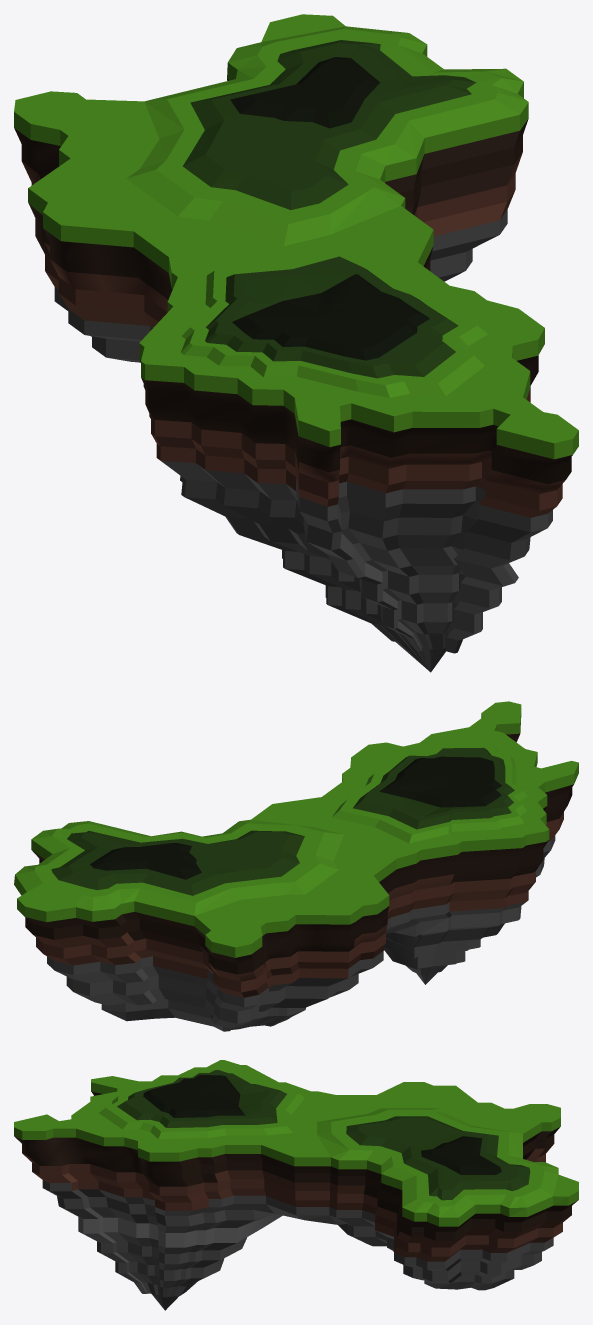
Rendered from F_Island.FBX.
The picture shows the model from 3 angles, top to bottom: view 1: azimuth 30°, elevation 25°; view 2: azimuth 150°, elevation 25°; view 3: azimuth 270°, elevation 25°; orthographic projection. The views are drawn at different scales.
Parts seen in each view (by area): view 1: Cylinder002; view 2: Cylinder002; view 3: Cylinder002.
Part boxes in pixels (<box>): Cylinder002: <box>14,14,578,672</box>; Cylinder002: <box>14,701,578,1031</box>; Cylinder002: <box>14,1060,578,1310</box>.
Size of the model in its own units: 27.91 by 16.42 by 42.36.
